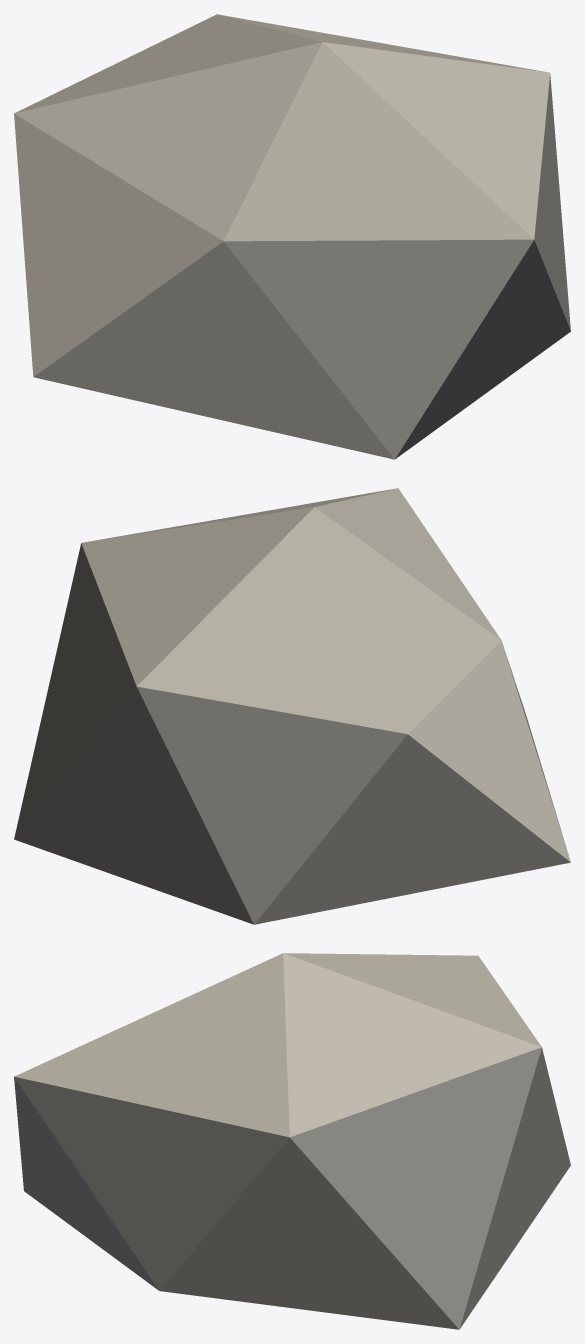
The model's file is SM_Rock_C.fbx.
3 views of the same model, one above another, from view 1: azimuth 30°, elevation 25°; view 2: azimuth 150°, elevation 25°; view 3: azimuth 270°, elevation 25° (orthographic). The views are drawn at different scales.
Parts seen in each view (by area): view 1: SM_Rock_C; view 2: SM_Rock_C; view 3: SM_Rock_C.
Part boxes in pixels (box(x1,y1,x2,y2)): SM_Rock_C: box(14, 14, 570, 459); SM_Rock_C: box(14, 488, 570, 924); SM_Rock_C: box(14, 953, 570, 1329).
Size of the model in its own units: 0.2734 by 0.1744 by 0.2873.
